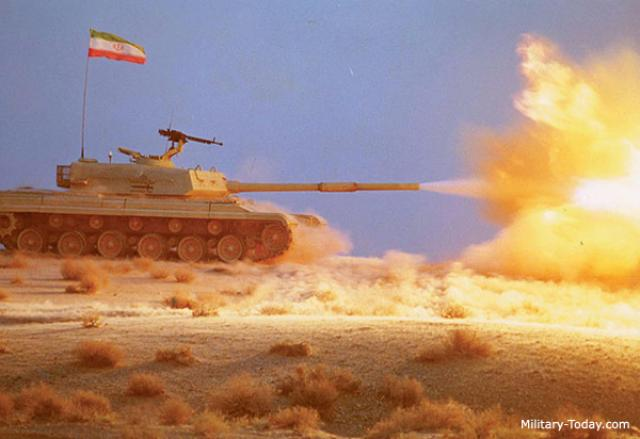tank: (1, 157, 316, 260)
